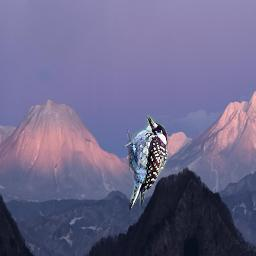Woodpecker: (114, 112, 175, 217)
